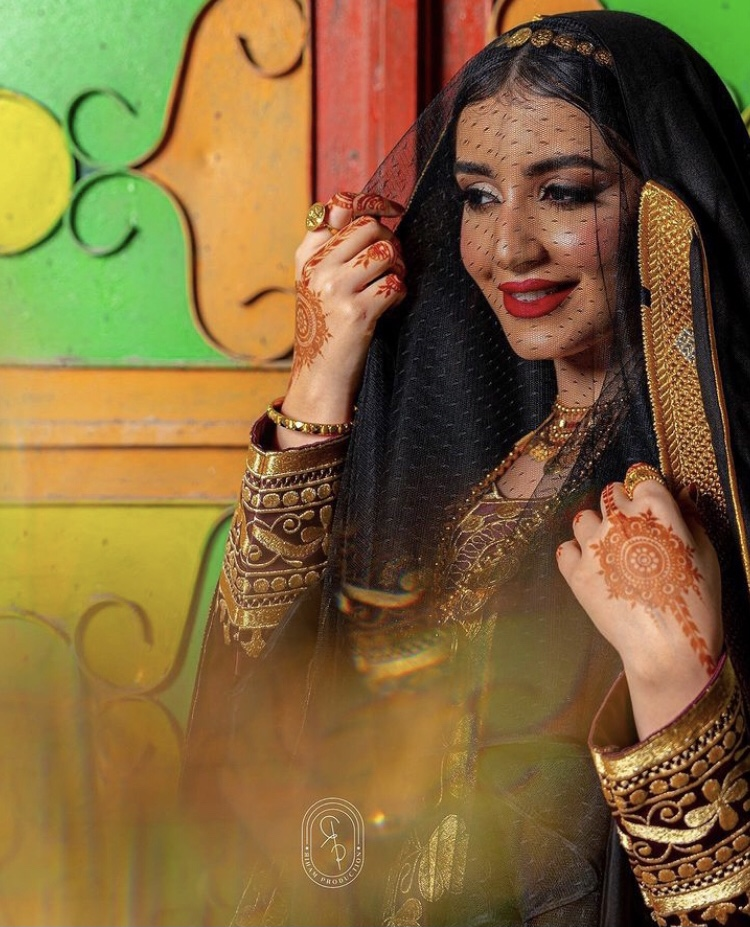Saudi_Founding_Day: (177, 10, 750, 927)
